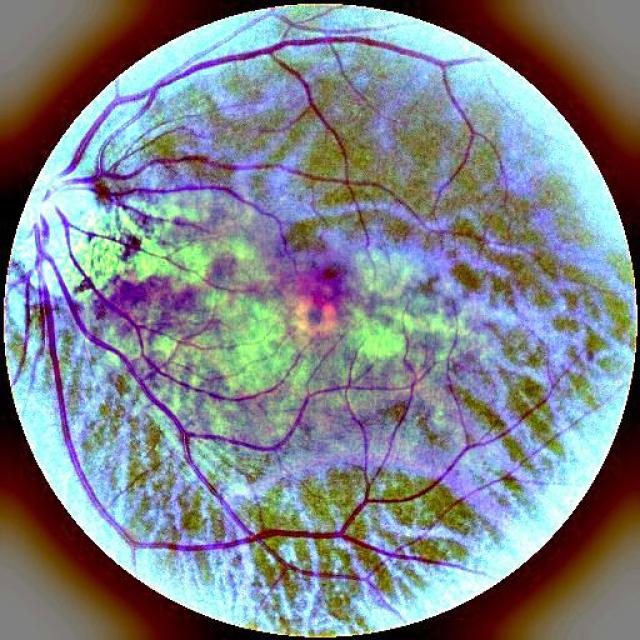Macula: (276, 249, 367, 354)
Nerves: (25, 35, 472, 573), (48, 295, 244, 529)
Optic Disk: (0, 132, 119, 347)
